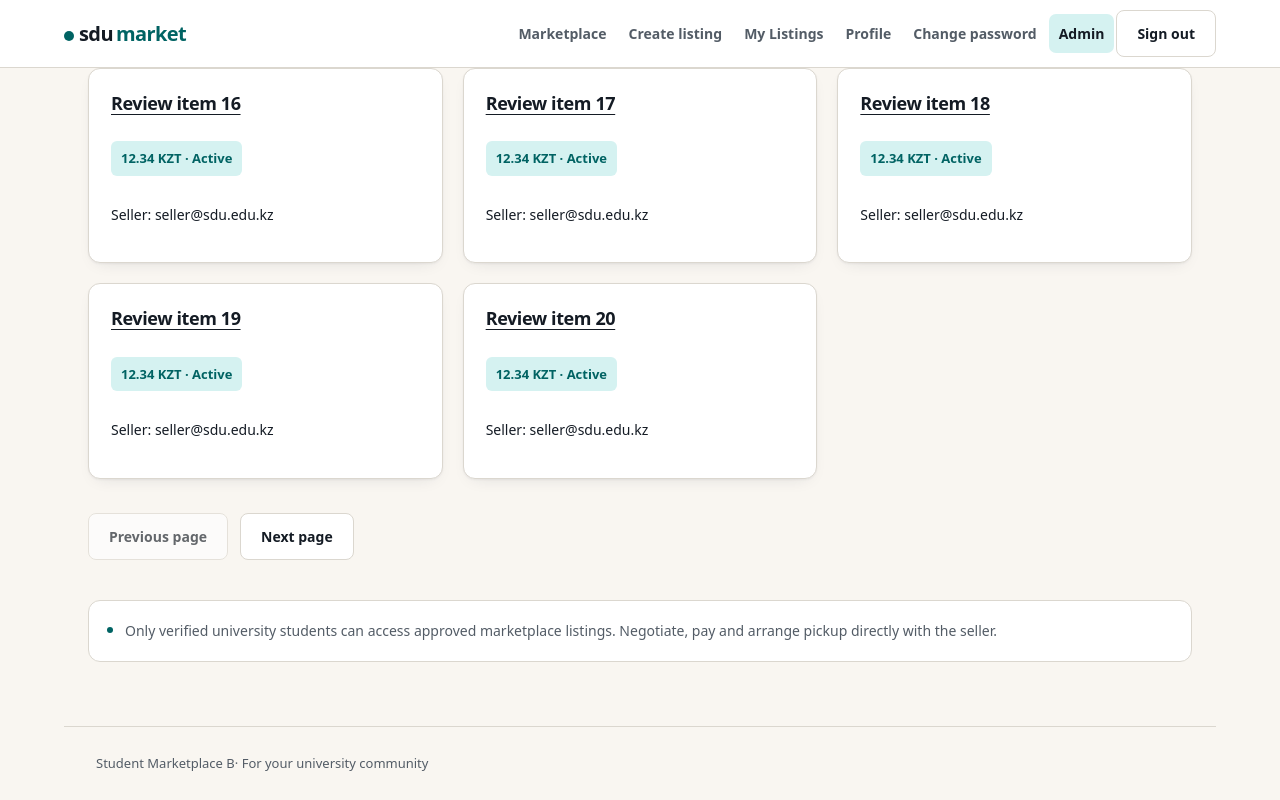
Test: status filtering/paging preserves protected query and genuine detail navigation
(page scrolled)
Click the button "Next page" at (297, 537), box [240,513,354,560]
(page scrolled)
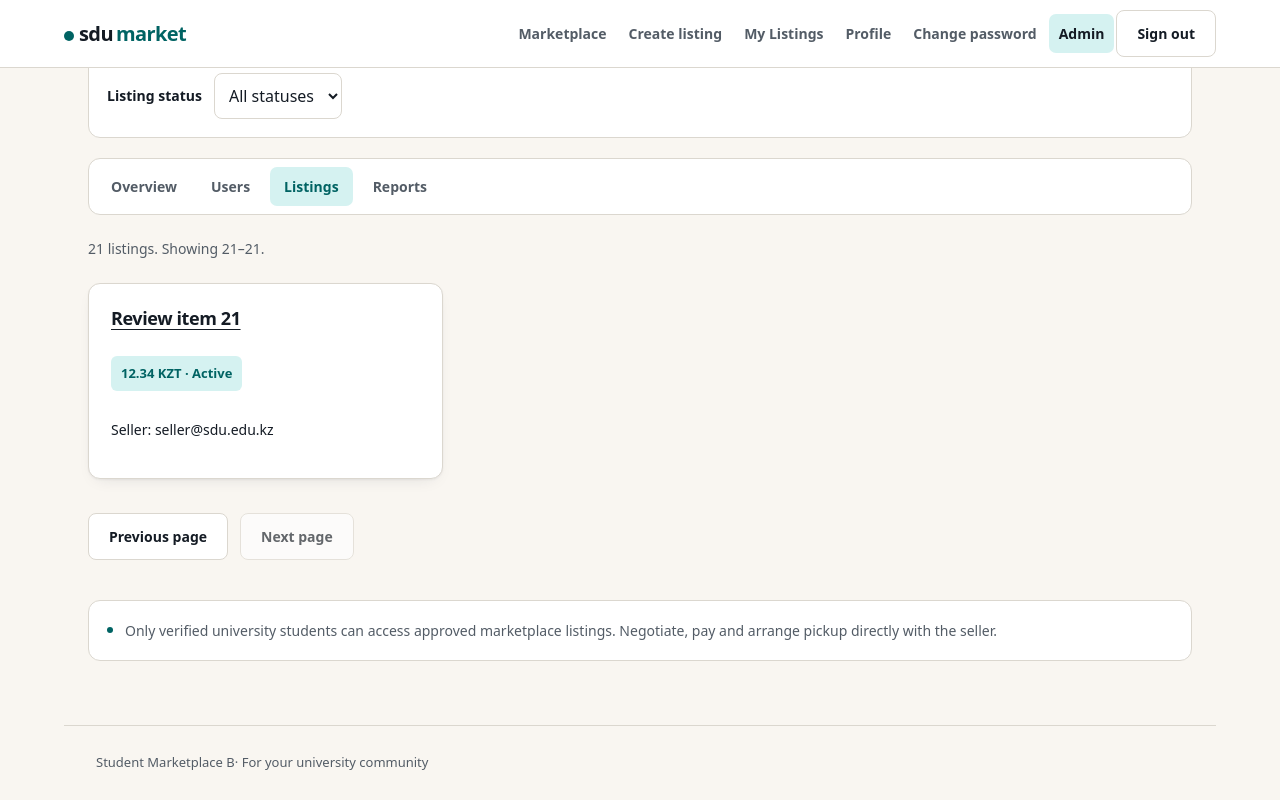
Result: the link "Review item 21" is shown at [111,306,240,330]
Select "Pending" in the dropdown labelled "Listing status" at (278, 96), box [214,73,342,119]
(page scrolled)
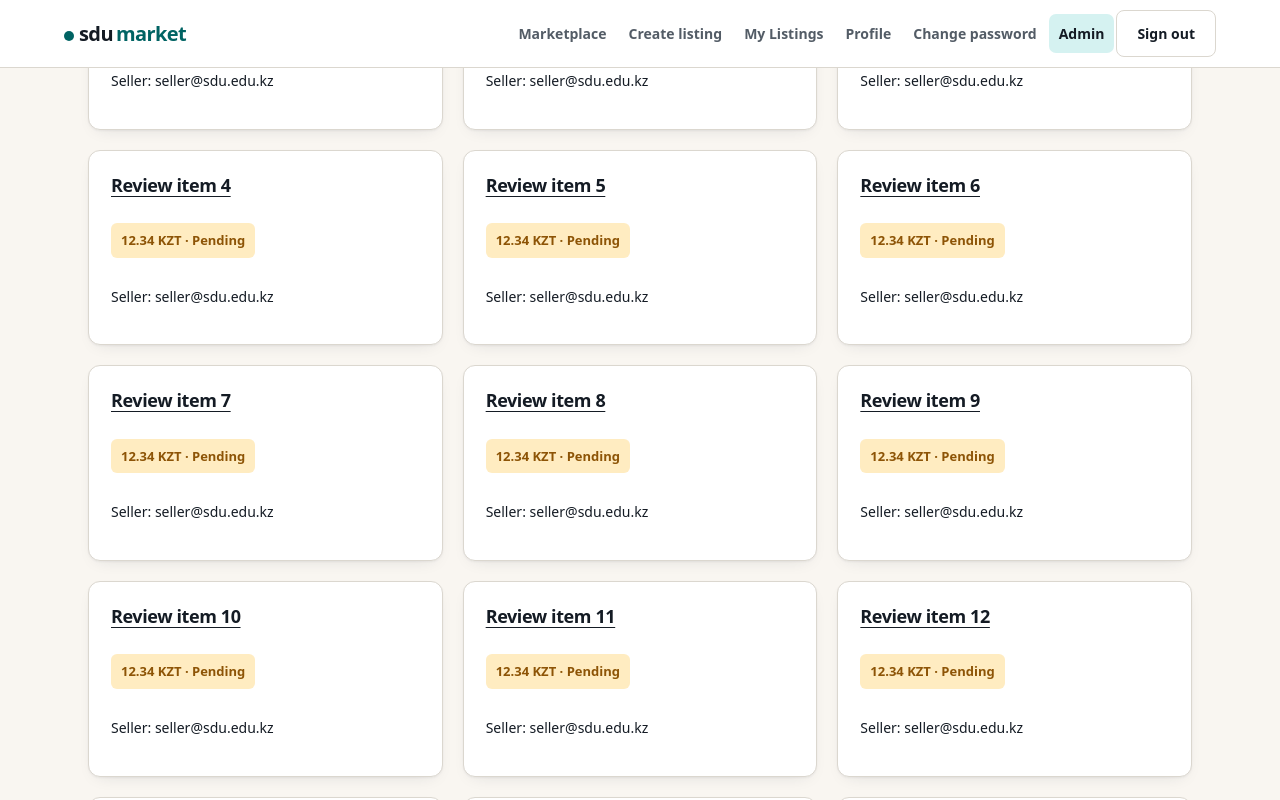
Result: the link "Review item 7" is shown
Click the link "Review item 7" at (171, 400), box [111,388,231,412]
(page scrolled)
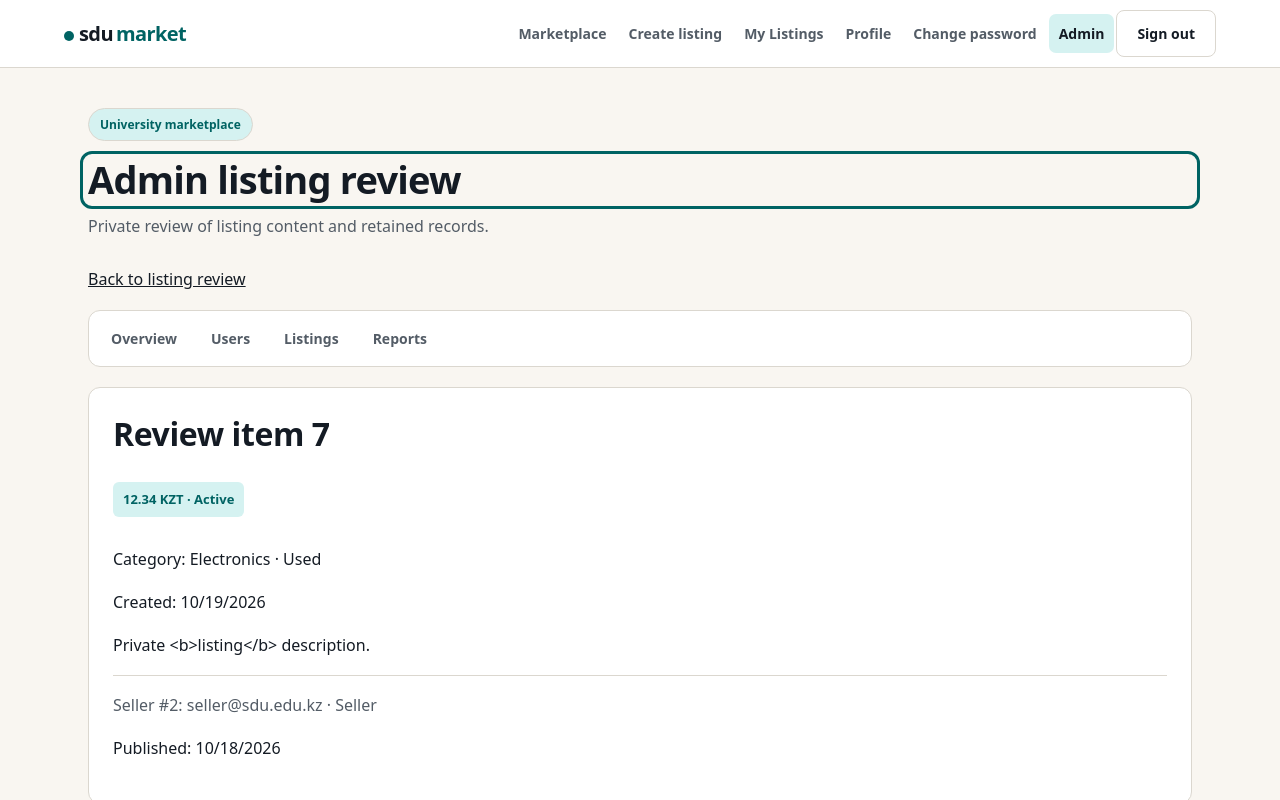
Result: the heading "Admin listing review" is shown at [88,153,461,205]
Result: the text "Private <b>listing</b> description." is shown at [113,634,370,656]
